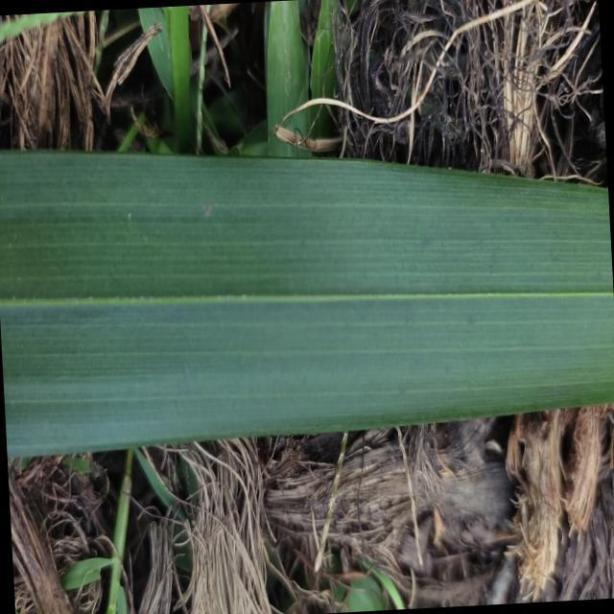Healthy: (0, 147, 614, 459)
